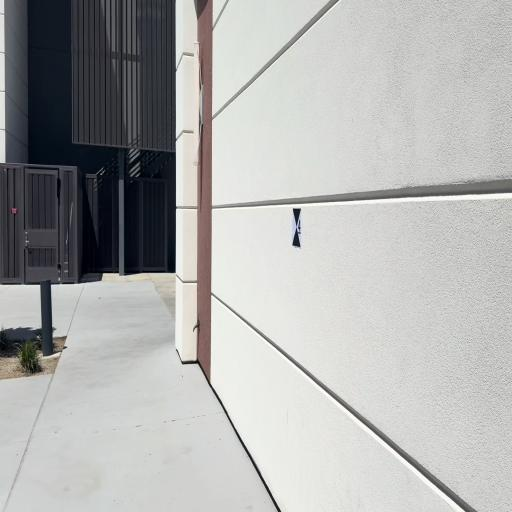target4: (292, 208, 302, 250)
